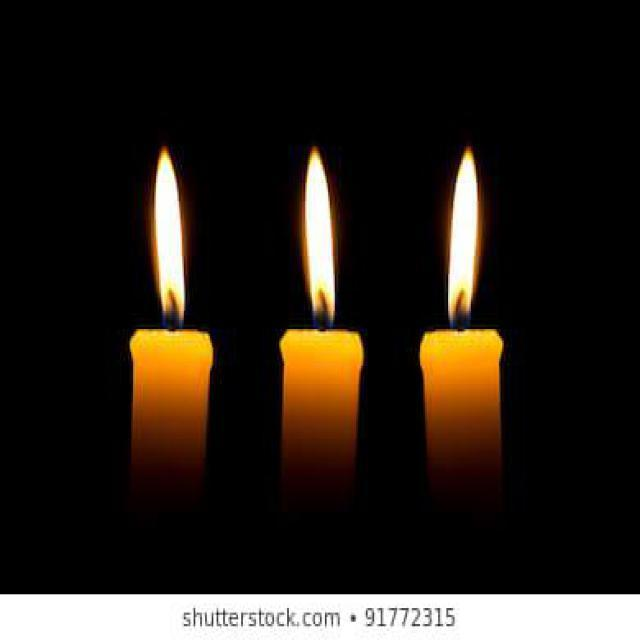Fire: (152, 146, 185, 327), (304, 150, 336, 330), (448, 148, 479, 332)
